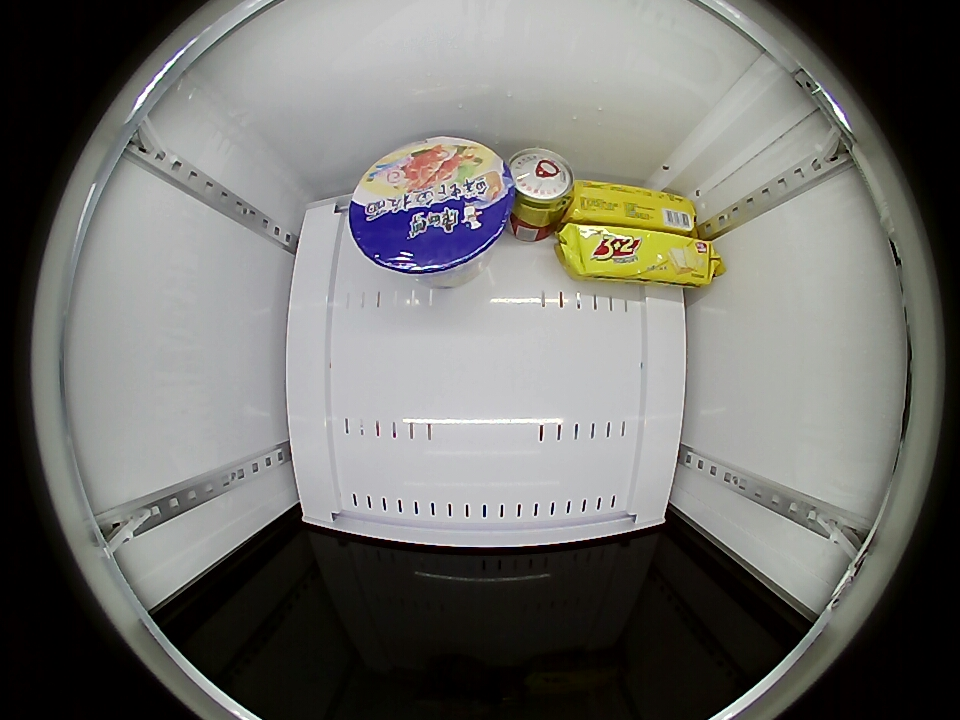3+2-2: (561, 226, 716, 285), (569, 180, 699, 233)
dongpeng: (506, 146, 575, 214)
xianxiayuban: (348, 137, 514, 276)
